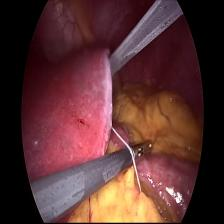Grasper: (128, 136, 160, 167)
